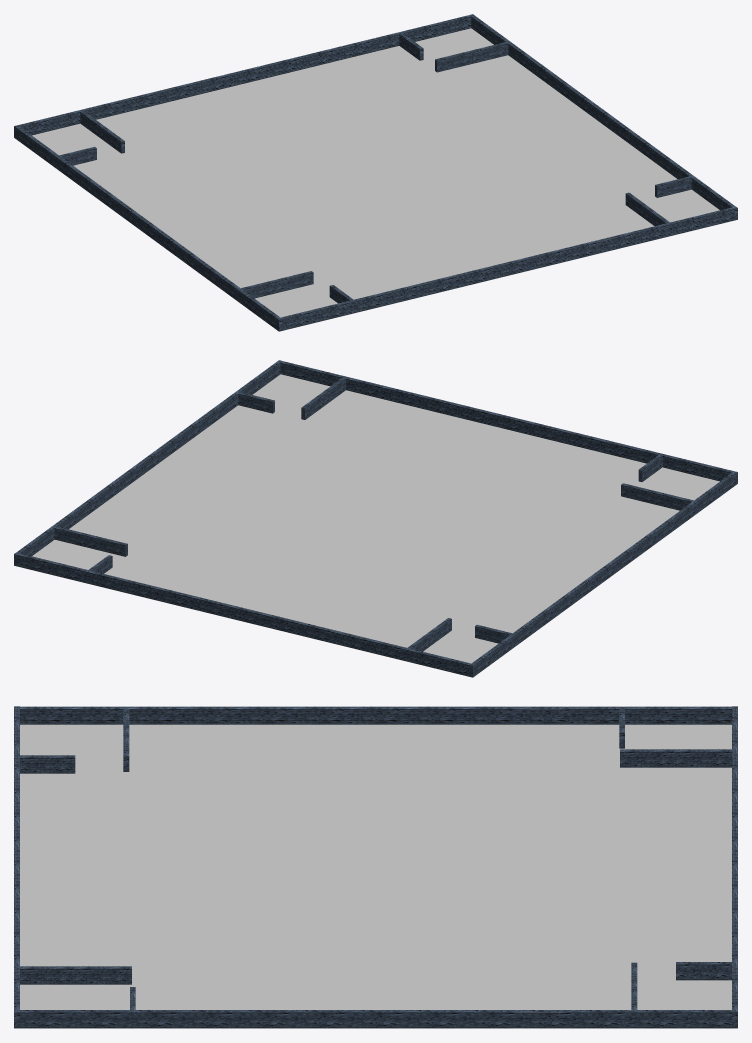
The model's file is map.fbx.
3 views of the same model, one above another, from view 1: azimuth 30°, elevation 25°; view 2: azimuth 150°, elevation 25°; view 3: azimuth 270°, elevation 25° (orthographic). The views are drawn at different scales.
Visible parts, largest first — view 1: pPlane1, pCube18, pCube17, pCube15, pCube16, pCube28, pCube27, pCube19; view 2: pPlane1, pCube17, pCube18, pCube15, pCube16, pCube28, pCube19; view 3: pPlane1, pCube16, pCube15, pCube17, pCube18, pCube26, pCube25, pCube20, pCube22, pCube29, pCube30.
Part boxes in pixels (x1,y1,x2,y2): pPlane1: [16, 28, 737, 331]; pCube18: [276, 206, 737, 331]; pCube17: [14, 14, 474, 138]; pCube15: [15, 125, 282, 331]; pCube16: [469, 14, 737, 220]; pCube28: [435, 50, 472, 72]; pCube27: [471, 42, 508, 63]; pCube19: [655, 176, 692, 197]; pPlane1: [14, 374, 735, 677]; pCube17: [14, 552, 475, 677]; pCube18: [277, 360, 737, 484]; pCube15: [469, 471, 736, 677]; pCube16: [14, 360, 282, 566]; pCube28: [90, 535, 127, 556]; pCube19: [237, 392, 274, 413]; pPlane1: [14, 724, 737, 1028]; pCube16: [14, 1010, 737, 1028]; pCube15: [14, 706, 737, 724]; pCube17: [732, 706, 737, 1028]; pCube18: [14, 706, 19, 1028]; pCube26: [75, 966, 131, 984]; pCube25: [19, 966, 75, 984]; pCube20: [676, 962, 732, 980]; pCube22: [19, 755, 75, 773]; pCube29: [676, 749, 731, 767]; pCube30: [620, 749, 675, 767].
Size of the model in its own units: 24.06 by 0.5894 by 24.06.
